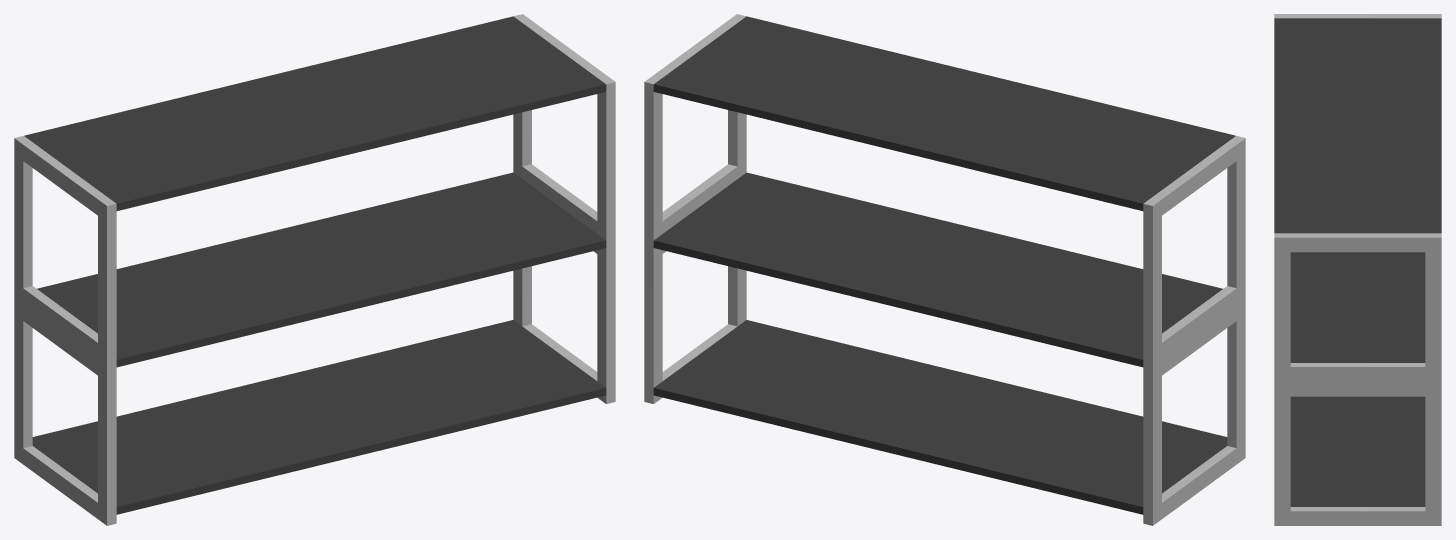
The model's file is shelf_010.glb.
3 views of the same model, side by side, from view 1: azimuth 30°, elevation 25°; view 2: azimuth 150°, elevation 25°; view 3: azimuth 270°, elevation 25° (orthographic). The views are drawn at different scales.
Parts seen in each view (by area): view 1: shelf_010; view 2: shelf_010; view 3: shelf_010.
Part boxes in pixels (x1,y1,x2,y2): shelf_010: (14,14,615,525); shelf_010: (644,14,1245,525); shelf_010: (1274,14,1441,525).
Bounding box in the file's own units: 1.17 × 0.7049 × 0.371.
1 material, 1 textured.
